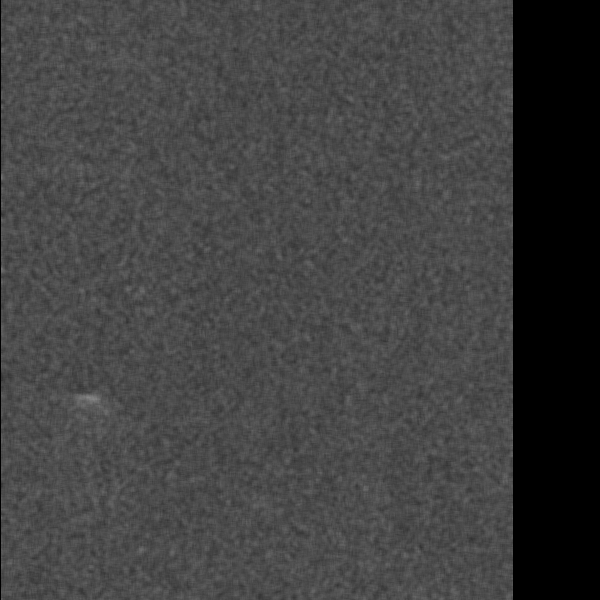spark: (217, 371, 246, 455), (233, 484, 265, 531)
